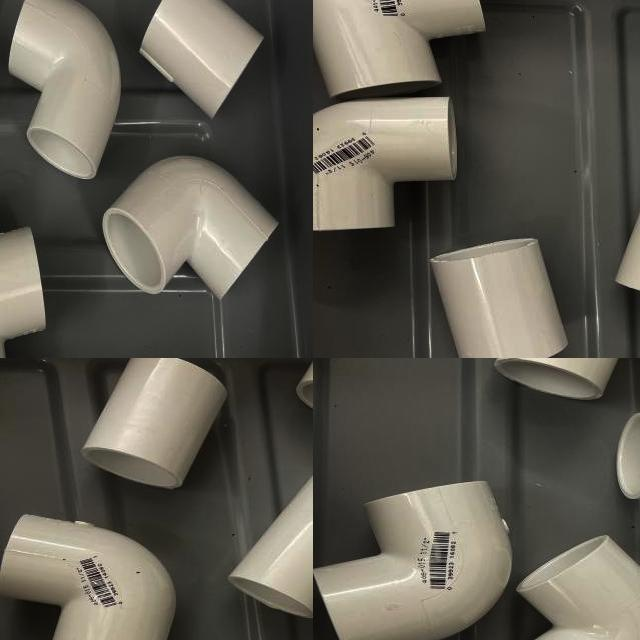L Joint: (314, 481, 514, 640), (0, 515, 179, 640), (518, 537, 640, 640)
T Joint: (228, 474, 313, 622)
